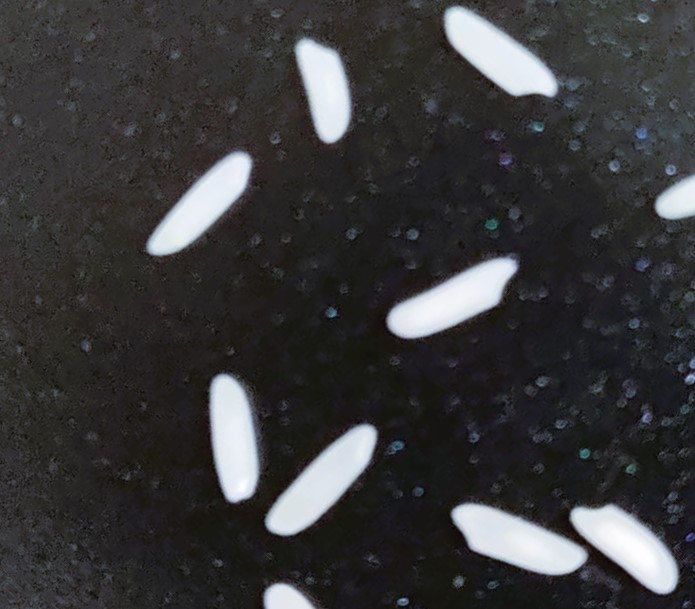complete_grain: (262, 417, 383, 549), (382, 251, 524, 346), (143, 145, 258, 262), (566, 495, 684, 603), (447, 498, 590, 587), (441, 3, 560, 105), (207, 364, 263, 507), (294, 37, 356, 151)
